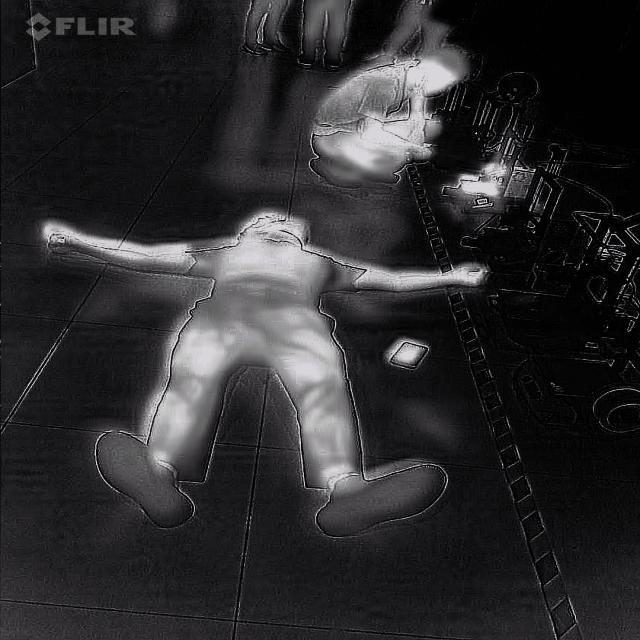Victim: (37, 203, 494, 540), (298, 44, 477, 195)
